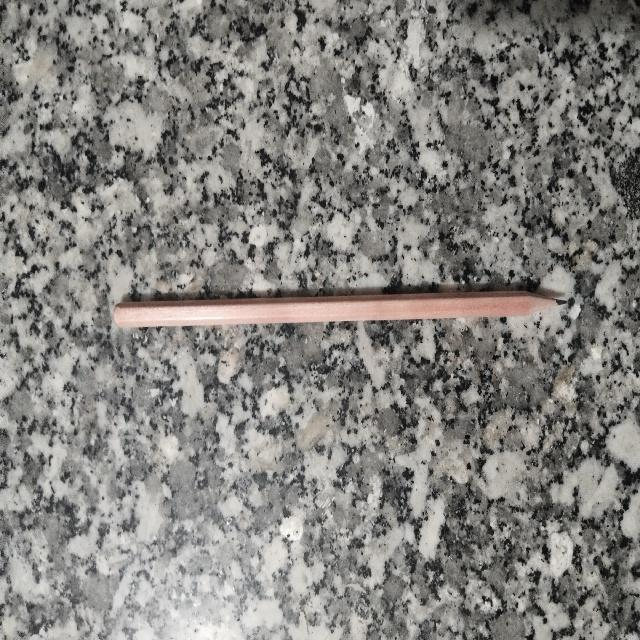pencil: (114, 292, 562, 327)
